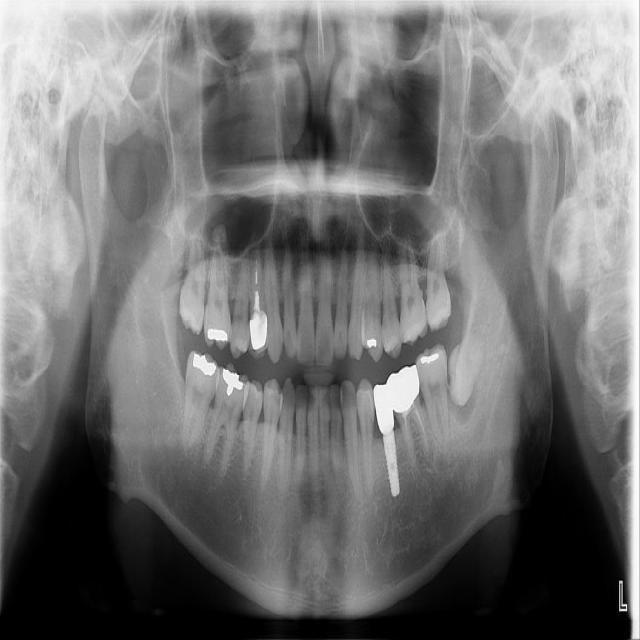52: (203, 358, 262, 416), (383, 364, 428, 420), (182, 351, 223, 405), (413, 343, 452, 394), (359, 309, 385, 363), (204, 300, 232, 350), (371, 383, 397, 436), (247, 310, 269, 359)
73: (393, 399, 438, 471), (250, 240, 266, 312)
BioHorizons Implant: (425, 233, 451, 331)
Biomet 3i Implant: (437, 328, 490, 409)
Blue Sky Bio Implant: (414, 343, 455, 447)
Caries: (177, 227, 209, 336)
Implant: (180, 350, 221, 450)
